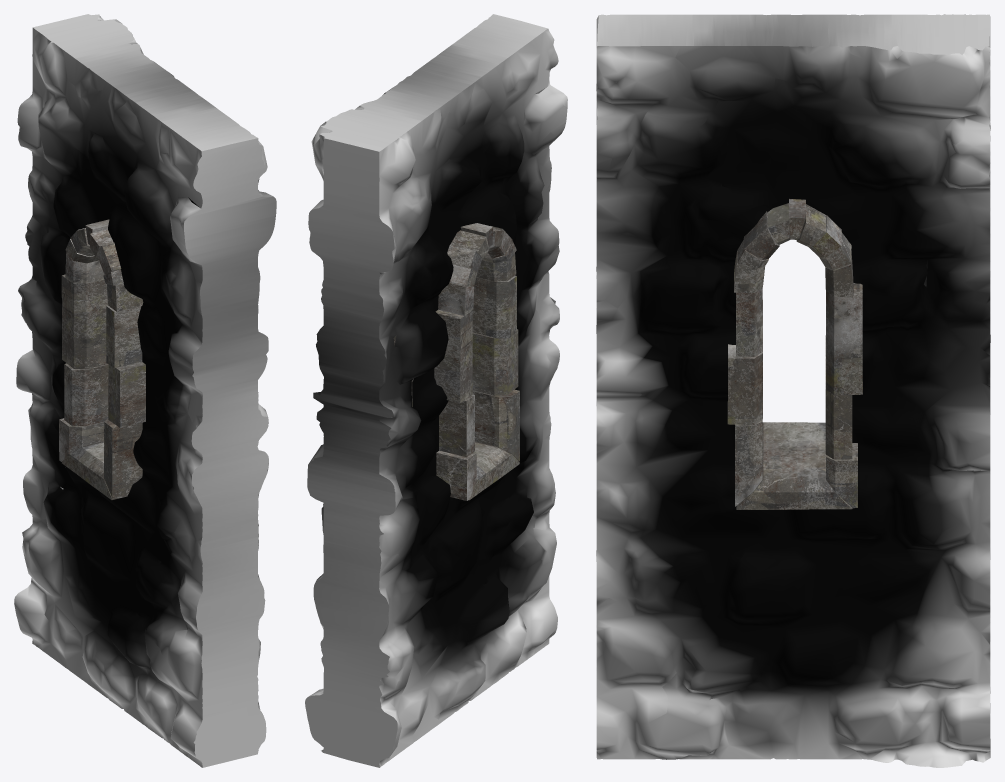
File: SM_CastleTower_Window_A_10.fbx
The picture shows the model from 3 angles, left to right: view 1: azimuth 30°, elevation 25°; view 2: azimuth 150°, elevation 25°; view 3: azimuth 270°, elevation 25°; orthographic projection. The views are drawn at different scales.
Parts seen in each view (by area): view 1: SM_CastleTower_Window_A_10_LOD0; view 2: SM_CastleTower_Window_A_10_LOD0; view 3: SM_CastleTower_Window_A_10_LOD0.
Part boxes in pixels (x1,y1,x2,y2): SM_CastleTower_Window_A_10_LOD0: (14, 14, 276, 767); SM_CastleTower_Window_A_10_LOD0: (305, 14, 567, 767); SM_CastleTower_Window_A_10_LOD0: (596, 14, 990, 767).
Bounding box in the file's own units: 82.03 × 200 × 400.
